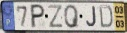7: (16, 5, 29, 28)
D: (98, 5, 114, 29)
J: (85, 6, 97, 28)
P: (31, 4, 46, 30)
Q: (63, 4, 80, 29)
Z: (47, 4, 64, 30)
